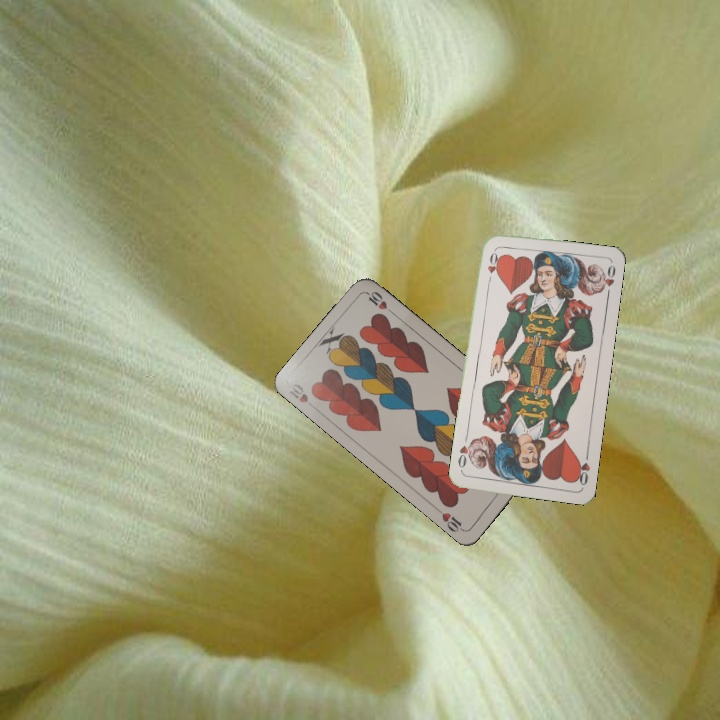H10: (285, 379, 311, 405)
HO: (572, 448, 593, 488), (483, 246, 500, 286)
